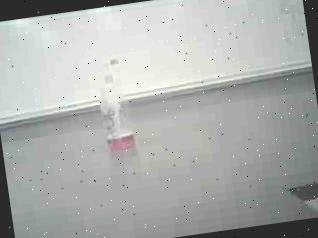hazard: (89, 47, 144, 156)
